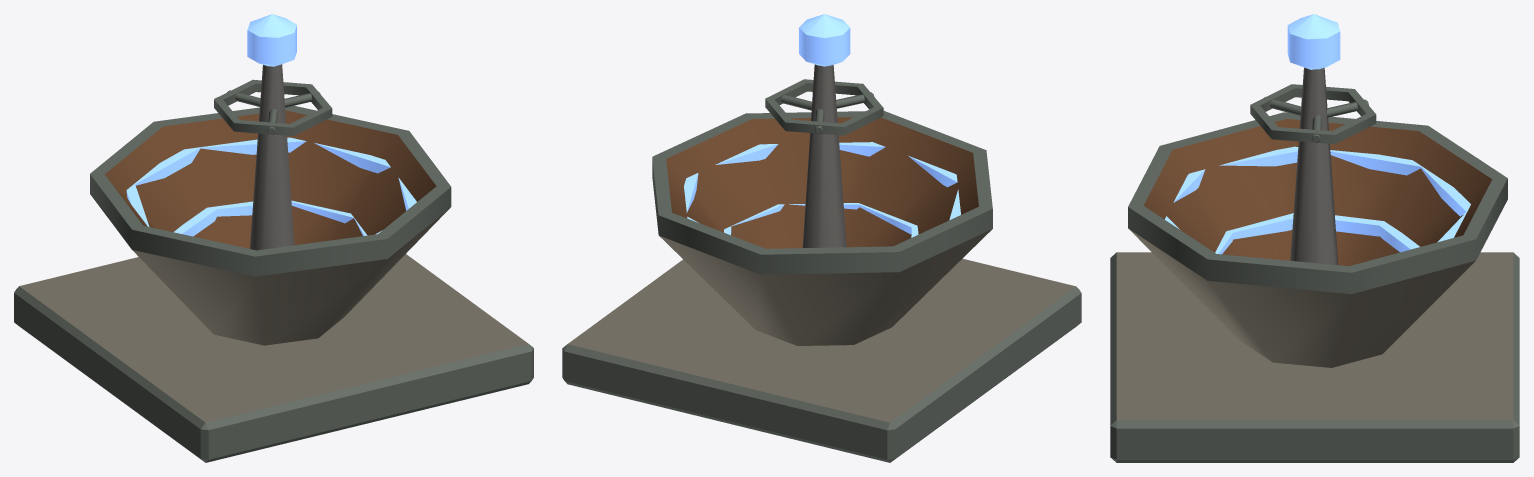
File: R4X_ScannerPulse_LOD1.fbx
3 renders of one model, left to right at view 1: azimuth 30°, elevation 25°; view 2: azimuth 150°, elevation 25°; view 3: azimuth 270°, elevation 25°, orthographic. The views are drawn at different scales.
Parts seen in each view (by area): view 1: R4X_ScannerPulse_LOD1; view 2: R4X_ScannerPulse_LOD1; view 3: R4X_ScannerPulse_LOD1.
Part boxes in pixels (box(x1,y1,x2,y2)): R4X_ScannerPulse_LOD1: box(14, 14, 533, 462); R4X_ScannerPulse_LOD1: box(562, 14, 1081, 462); R4X_ScannerPulse_LOD1: box(1110, 14, 1519, 462).
Size of the model in its own units: 0.52 by 0.51 by 0.52.
